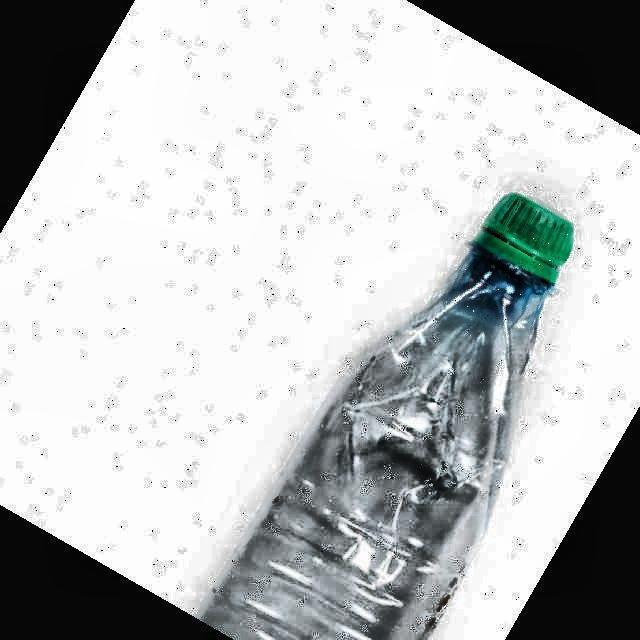plastic: (208, 194, 572, 640)
